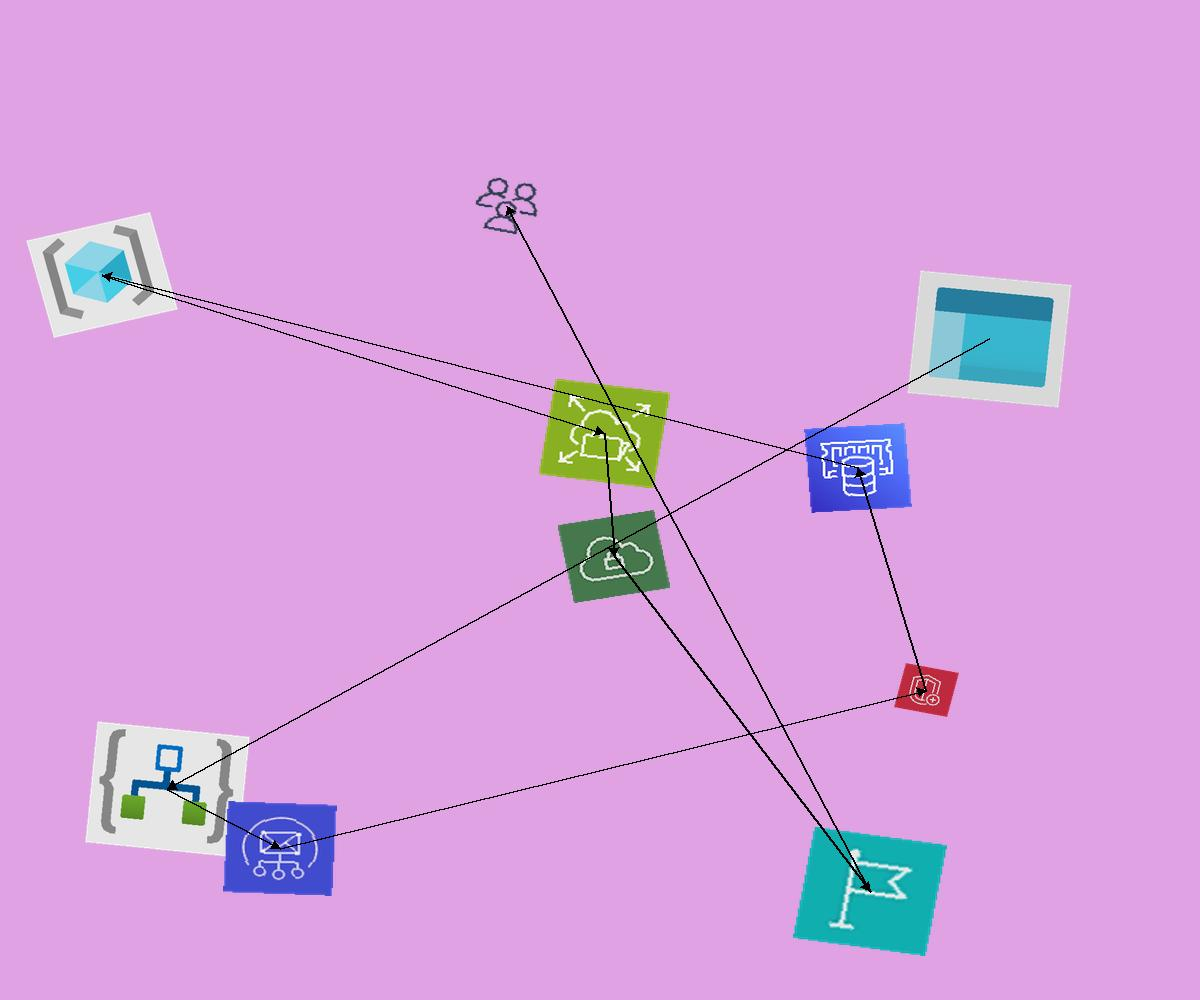AWS-EFS: (538, 378, 671, 489)
AWS-ElastiCache: (804, 423, 912, 513)
AWS-Private_vpc: (557, 509, 671, 604)
AWS-Region: (793, 827, 947, 956)
AWS-Res_Users: (466, 172, 548, 240)
AWS-Shield: (894, 663, 959, 717)
AWS-Simple-Email-Service: (223, 801, 337, 896)
Azure_integration-204-Logic-Apps: (85, 721, 250, 858)
Azure_management-portal: (907, 270, 1072, 408)
Azure_resource_group: (26, 212, 178, 338)
